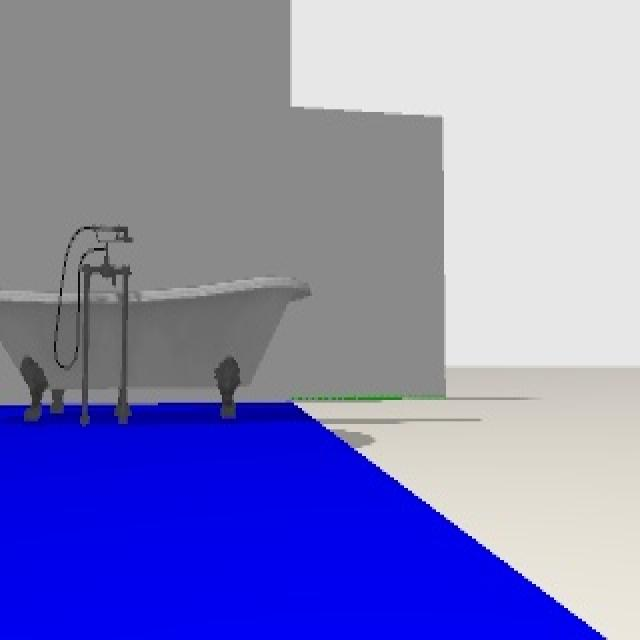bathtub: (0, 227, 312, 433)
